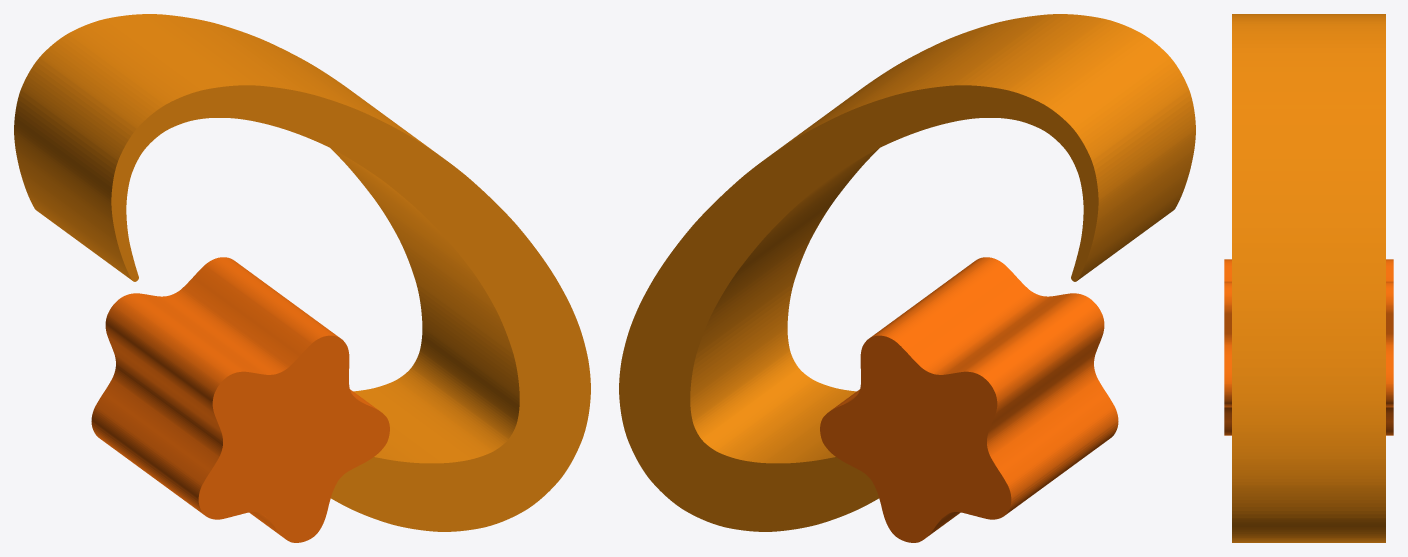
3 views of the same model, side by side, from view 1: azimuth 30°, elevation 25°; view 2: azimuth 150°, elevation 25°; view 3: azimuth 270°, elevation 25° (orthographic). The views are drawn at different scales.
Parts seen in each view (by area): view 1: U+1F4AB_layer00_obj00, U+1F4AB_layer01_obj00; view 2: U+1F4AB_layer00_obj00, U+1F4AB_layer01_obj00; view 3: U+1F4AB_layer00_obj00, U+1F4AB_layer01_obj00.
Part boxes in pixels (x1,y1,x2,y2): U+1F4AB_layer00_obj00: (14, 14, 590, 531); U+1F4AB_layer01_obj00: (91, 257, 389, 542); U+1F4AB_layer00_obj00: (619, 14, 1195, 531); U+1F4AB_layer01_obj00: (820, 257, 1118, 542); U+1F4AB_layer00_obj00: (1232, 14, 1385, 542); U+1F4AB_layer01_obj00: (1224, 259, 1393, 435).
Size of the model in its own units: 0.5687 by 0.5734 by 0.22.
